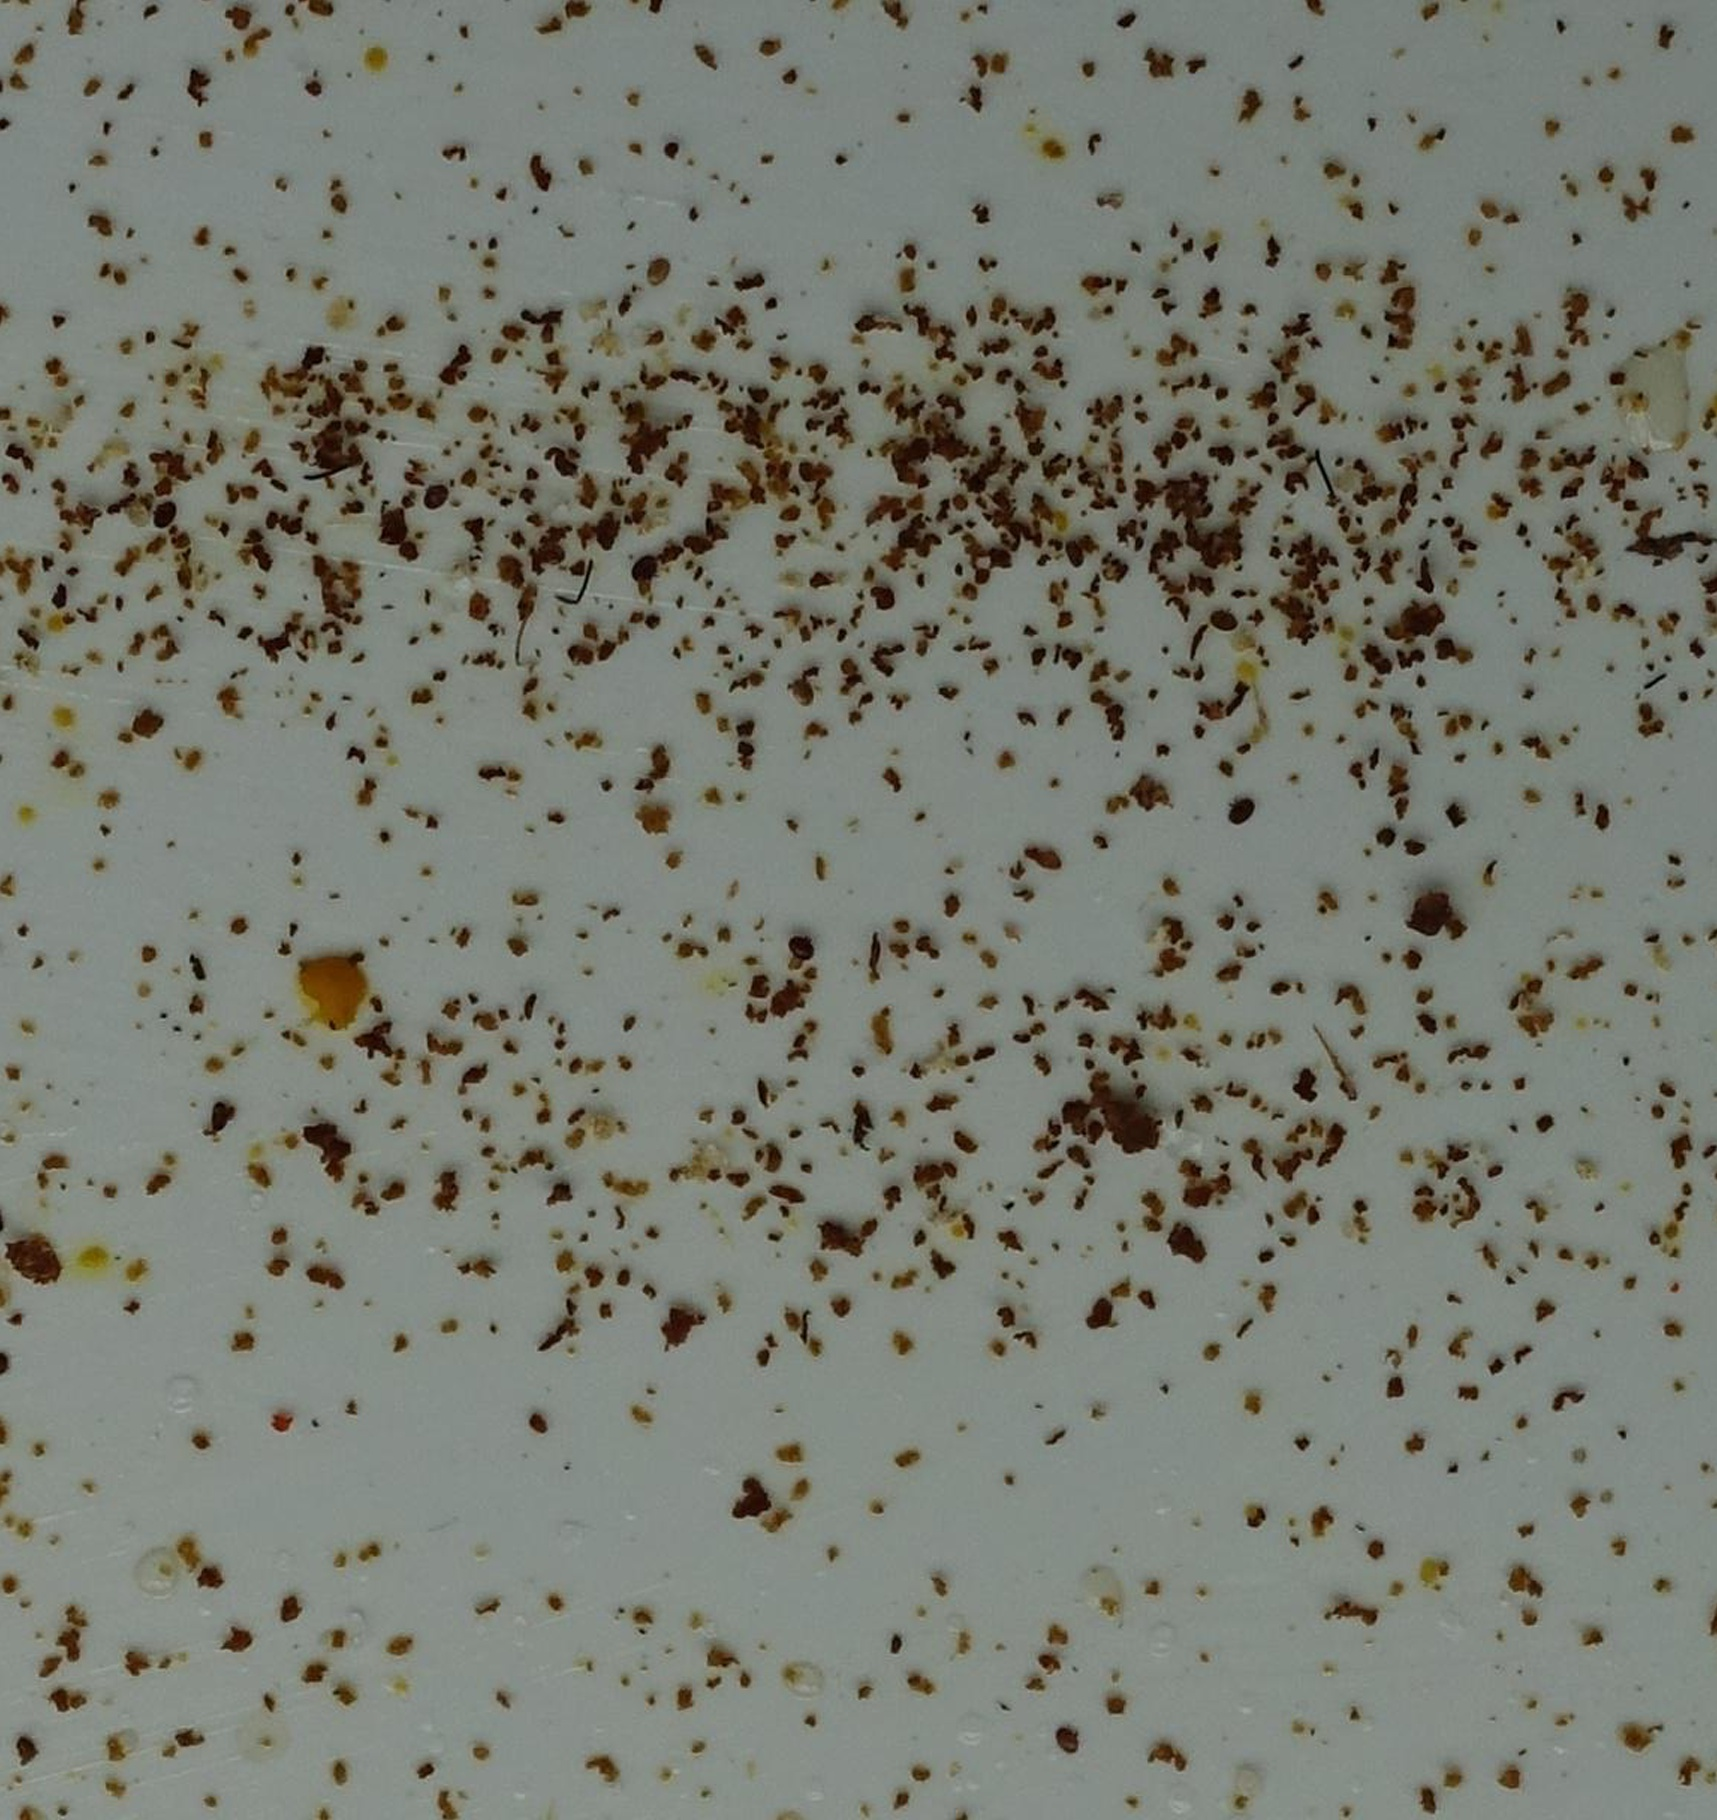Varroa: (896, 428, 939, 471), (197, 1094, 240, 1137), (783, 674, 818, 718), (418, 484, 449, 516), (1225, 799, 1255, 831), (1052, 1726, 1081, 1757), (787, 936, 817, 965), (147, 499, 176, 528), (1057, 536, 1084, 566), (1209, 613, 1238, 641), (633, 555, 662, 582), (647, 258, 675, 286), (533, 539, 560, 566)
